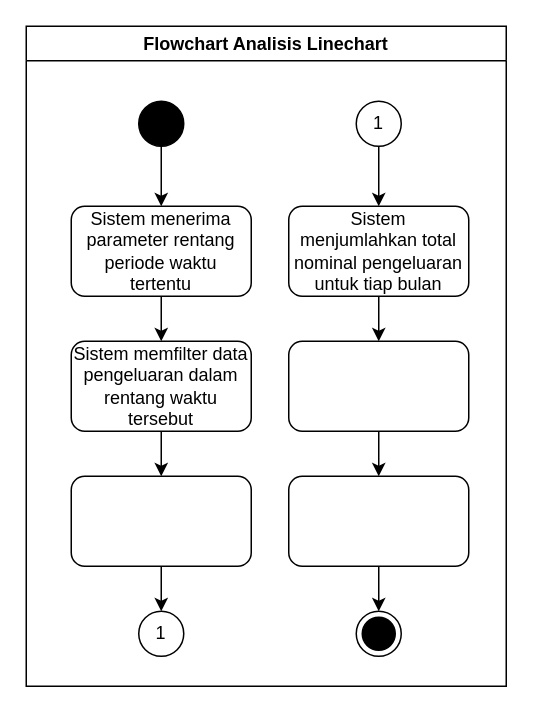
This 533x713 diagram has some shape labels left out. Each missing label, with the centre of its shape:
"Aplikasi merender titik-titik data teragregasi menjadi Line Chart" goes at pixel 378 520.
"Normalisasi data sesuai skala Y (Rupiah) dan sumbu X (Bulan)" goes at pixel 378 385.
"Sistem mengelompokkan data berdasarkan rentang per bulan" goes at pixel 160 520.
